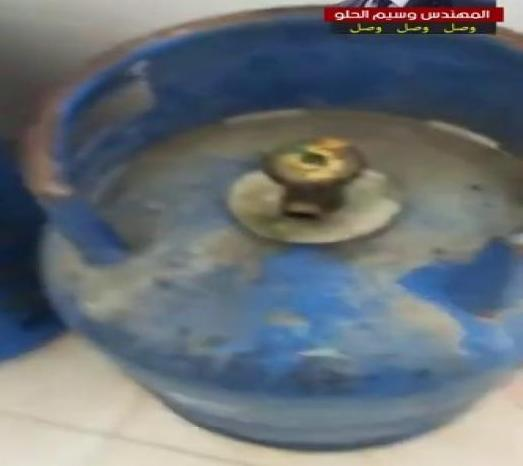cylinder: (1, 0, 523, 466)
